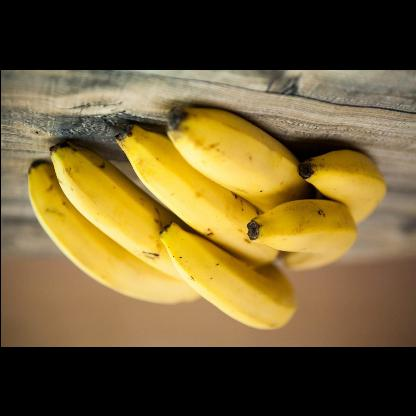banana: (26, 160, 198, 304), (114, 122, 276, 262), (47, 140, 200, 284), (166, 108, 316, 214), (156, 220, 296, 330), (246, 199, 356, 271), (296, 148, 386, 226)
